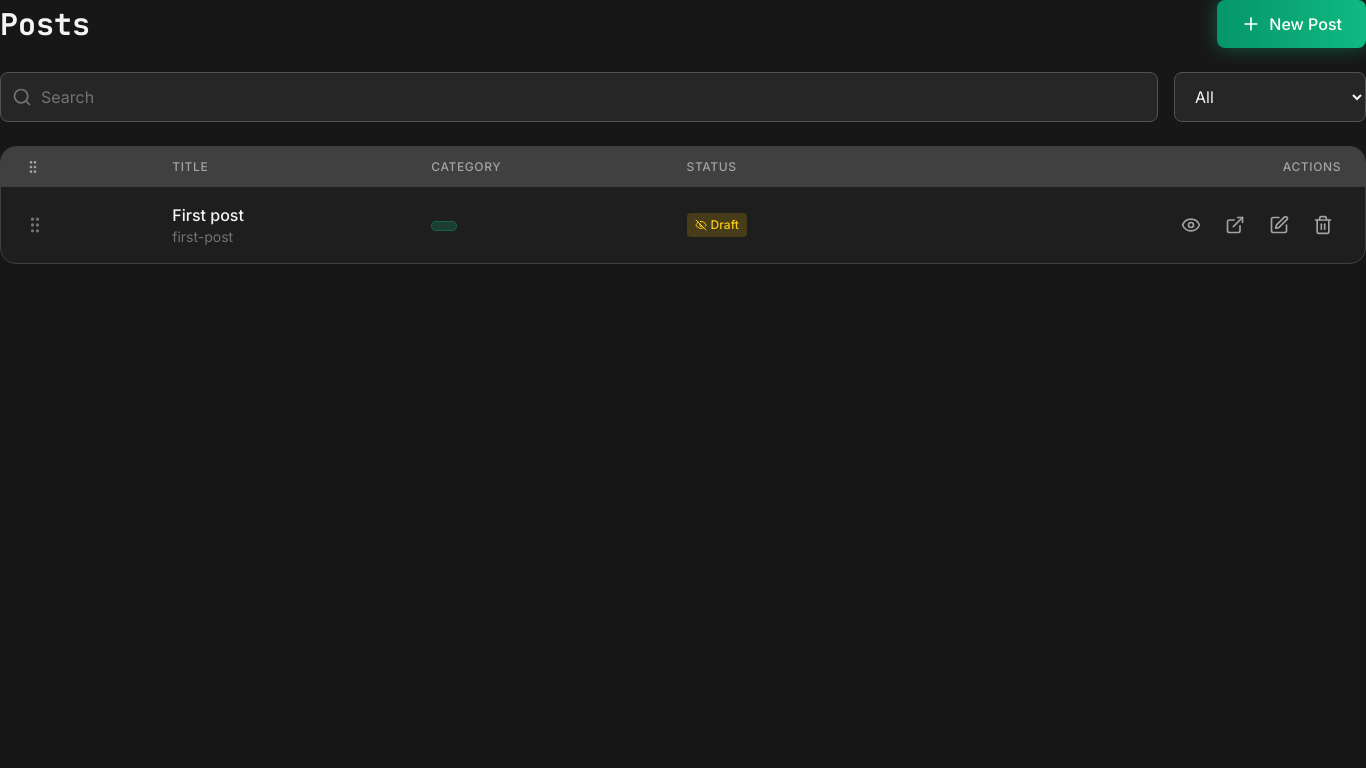
AdminPosts › asks in a modal before deleting and deletes only after confirmation
Later steps or results of the test are not shown.
Step 1. Click the 2nd button → (1323, 225), box [1305,207,1341,243]
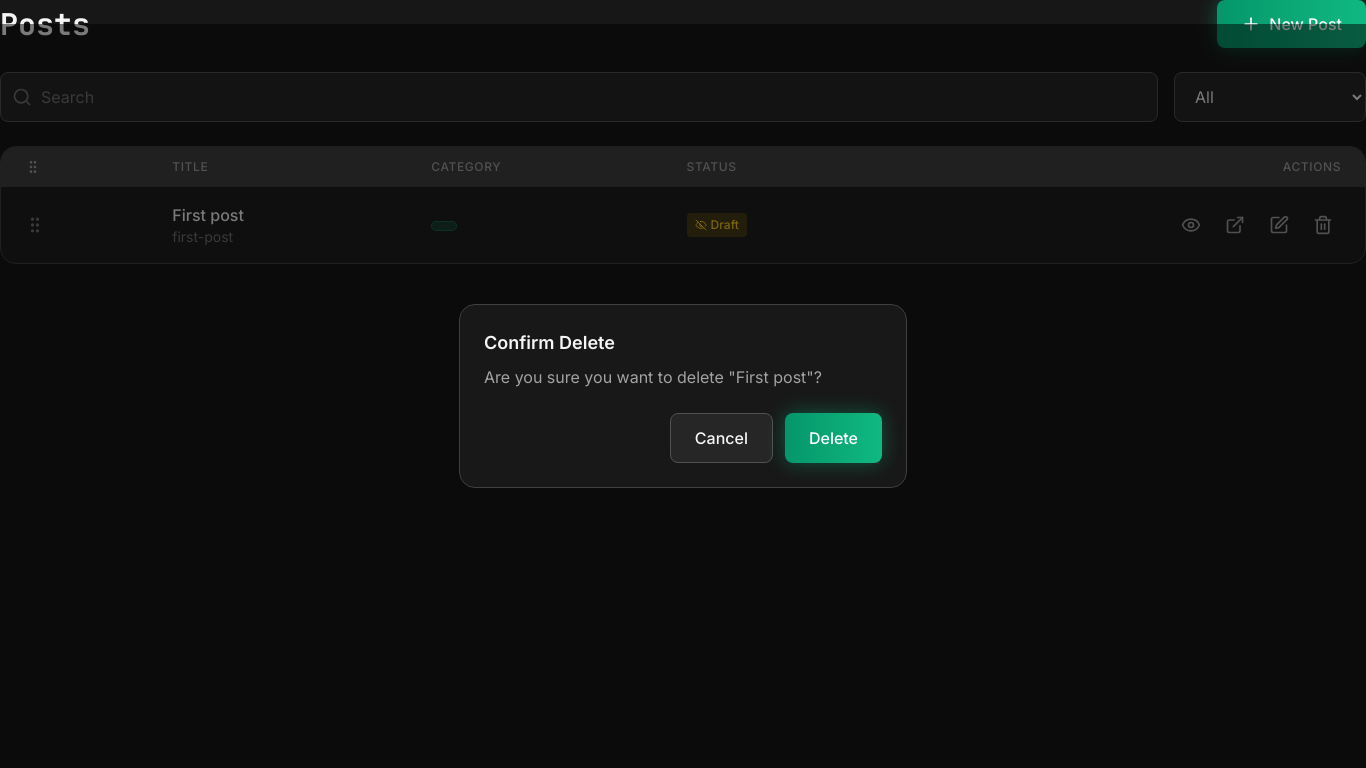
Check: the text "Are you sure you want to delete \"First post\"?" is shown, box [484,367,822,387]
